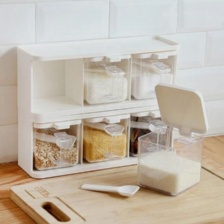plastic_box: (11, 27, 186, 184), (131, 79, 215, 201)
